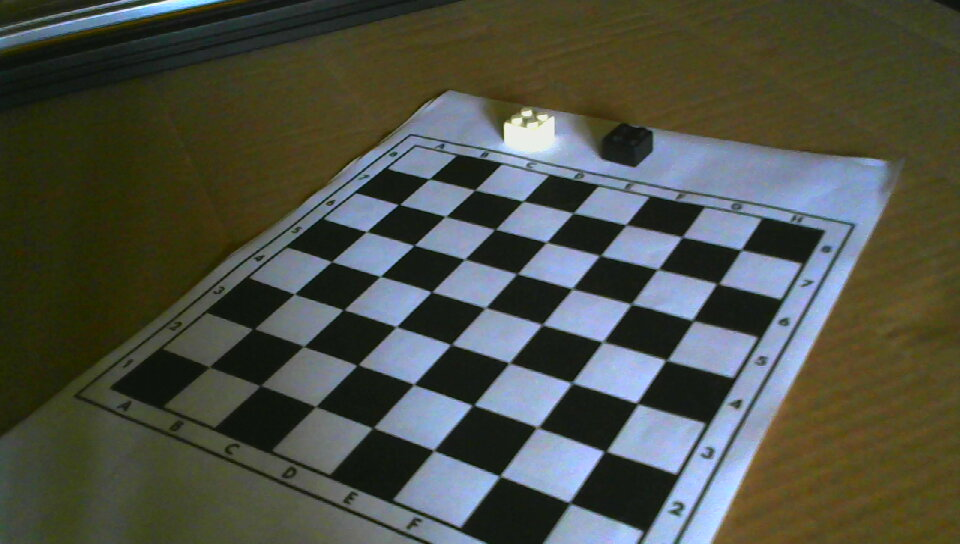bp: (602, 124, 656, 168)
wp: (503, 107, 554, 151)
